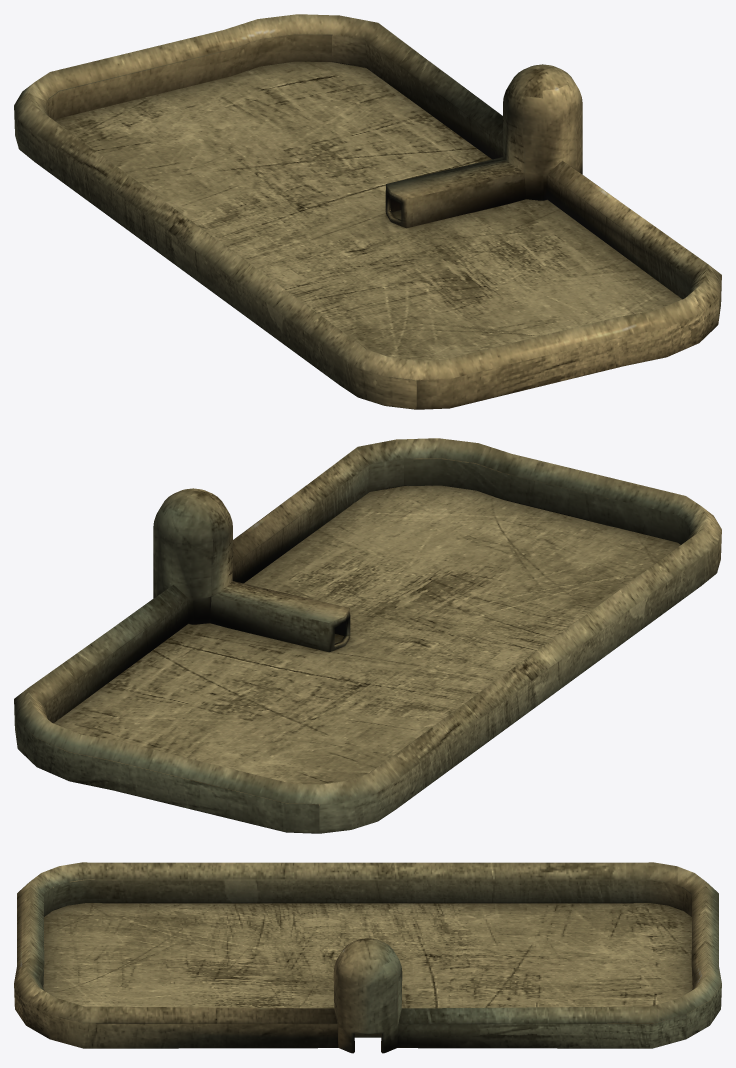
Rendered from prison.glb.
3 renders of one model, top to bottom at view 1: azimuth 30°, elevation 25°; view 2: azimuth 150°, elevation 25°; view 3: azimuth 270°, elevation 25°, orthographic. The views are drawn at different scales.
Visible parts, largest first — view 1: Sphere.014; view 2: Sphere.014; view 3: Sphere.014.
Part boxes in pixels (left/top/right/bottom): Sphere.014: left=14, top=14, right=721, bottom=409; Sphere.014: left=14, top=438, right=721, bottom=833; Sphere.014: left=14, top=862, right=721, bottom=1053.
Bounding box in the file's own units: 121 × 35.55 × 220.
1 material, 1 textured.
